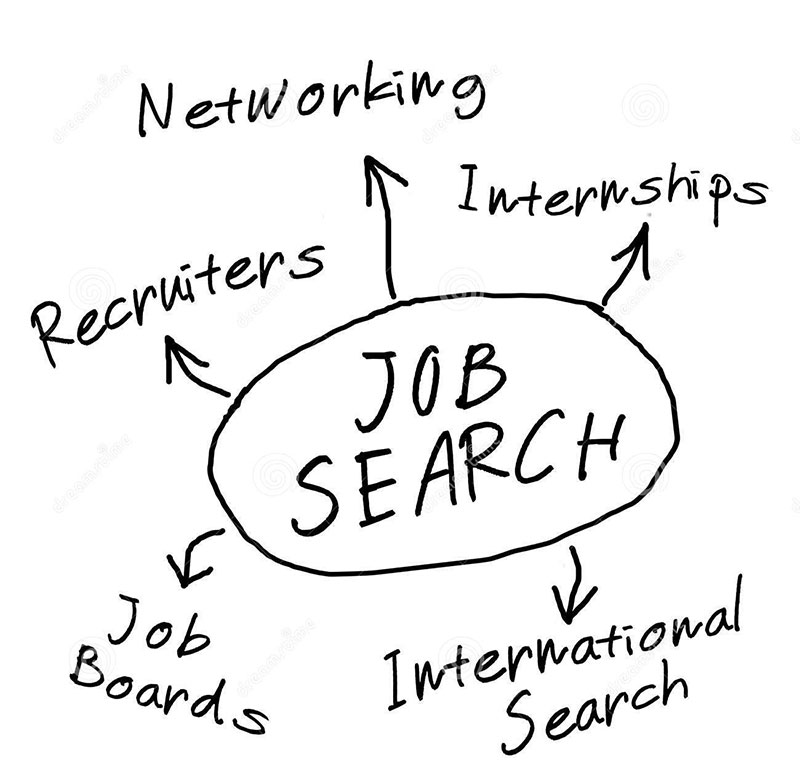circle: (207, 288, 682, 579)
line: (361, 151, 410, 305), (599, 217, 654, 311), (162, 332, 232, 403), (164, 526, 229, 592), (549, 544, 600, 627)
